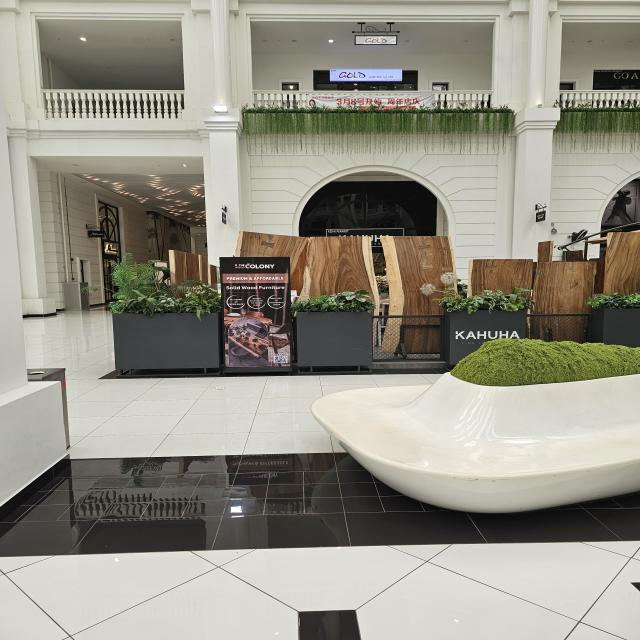footpath: (90, 381, 298, 640)
obstacle: (308, 337, 638, 516), (0, 285, 81, 514), (216, 253, 296, 372)
